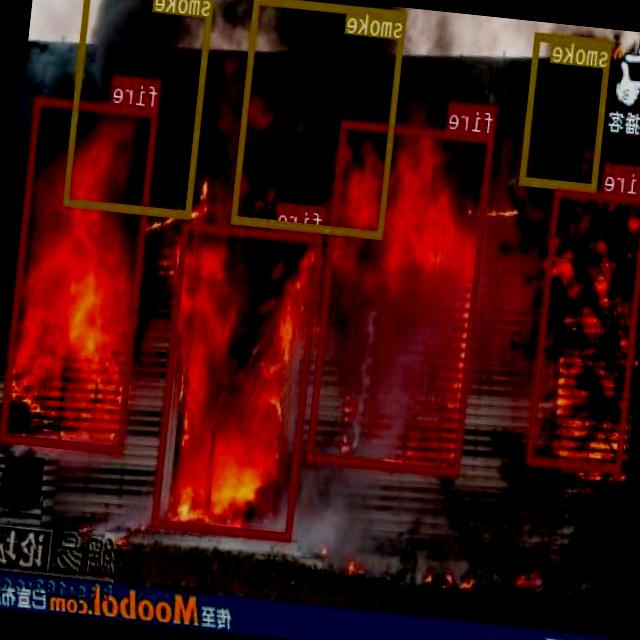fire: (308, 119, 494, 476), (0, 95, 159, 452), (153, 220, 323, 540), (527, 186, 640, 472)
smoke: (231, 0, 407, 238), (64, 0, 215, 217), (520, 31, 612, 190)
